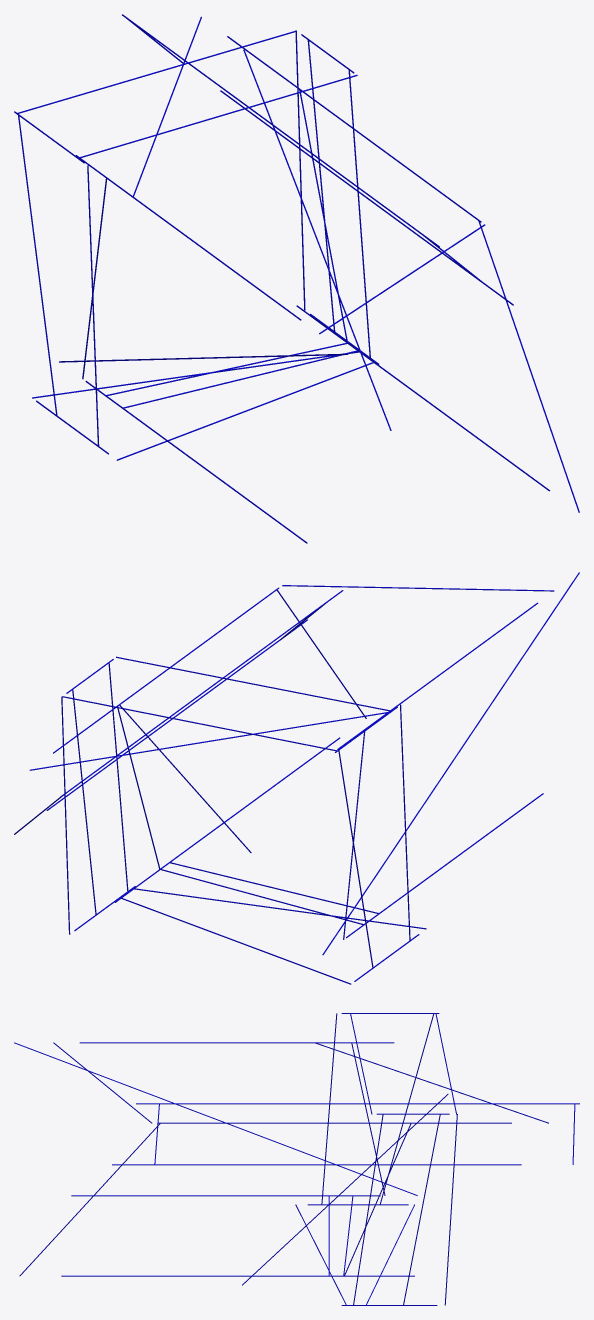
The model's file is corrected_3d_strokes.glb.
The picture shows the model from 3 angles, top to bottom: view 1: azimuth 30°, elevation 25°; view 2: azimuth 150°, elevation 25°; view 3: azimuth 270°, elevation 25°; orthographic projection. The views are drawn at different scales.
Visible parts, largest first — view 1: world; view 2: world; view 3: world.
Part boxes in pixels (box(x1,y1,x2,y2)): world: box(14, 14, 579, 543); world: box(14, 572, 579, 984); world: box(14, 1013, 579, 1305).
Size of the model in its own units: 9.38 by 8.32 by 22.22.
